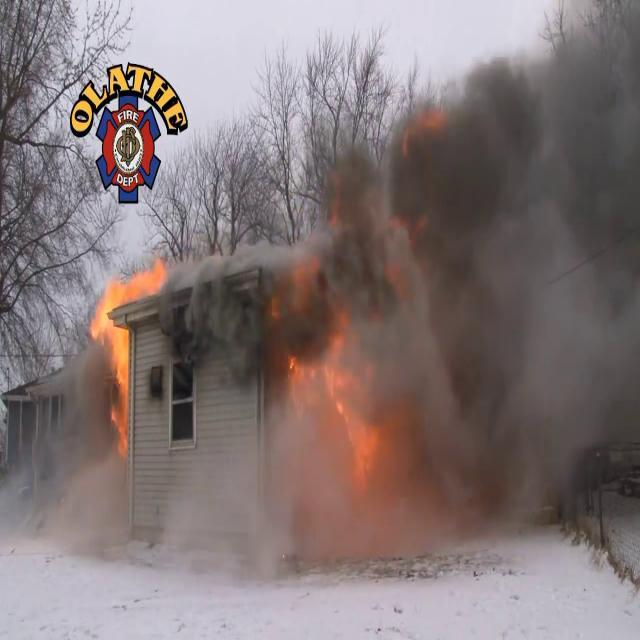Fire: (84, 285, 134, 424), (101, 254, 173, 308)
Smoke: (163, 20, 639, 582), (5, 397, 136, 555)
